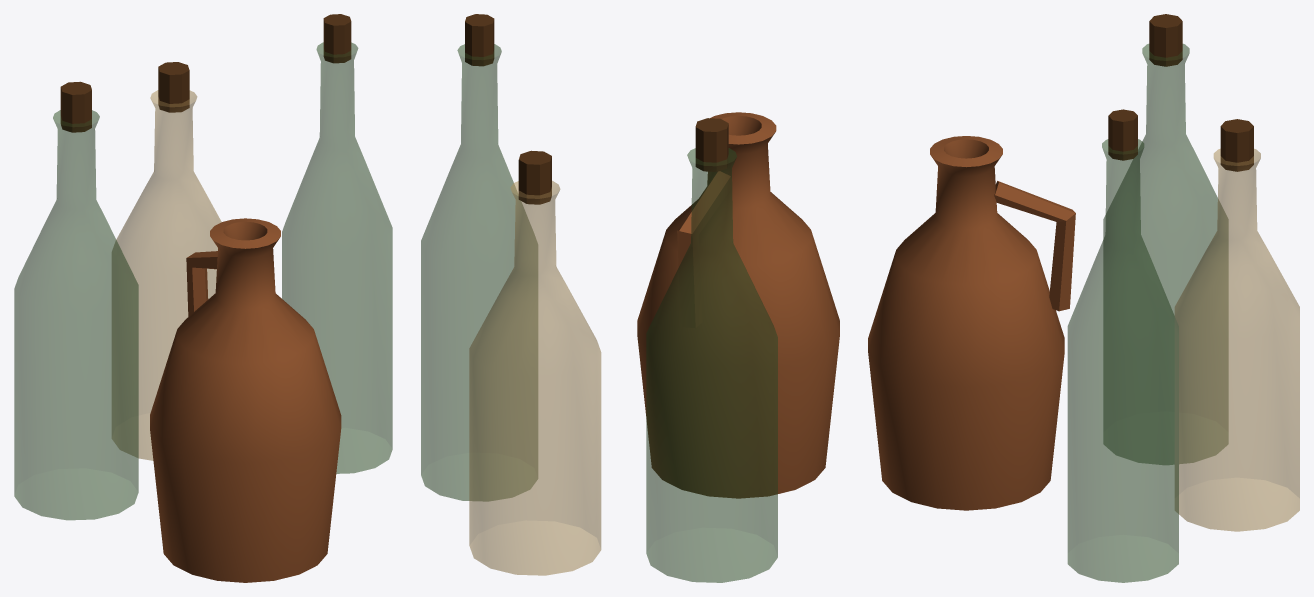
File: flaschen.glb
3 views of the same model, side by side, from view 1: azimuth 30°, elevation 25°; view 2: azimuth 150°, elevation 25°; view 3: azimuth 270°, elevation 25° (orthographic). The views are drawn at different scales.
Parts seen in each view (by area): view 1: flaschen; view 2: flaschen; view 3: flaschen.
Part boxes in pixels (x1,y1,x2,y2): flaschen: [14, 14, 392, 582]; flaschen: [421, 14, 839, 582]; flaschen: [868, 14, 1299, 582].
Size of the model in its own units: 0.285 by 0.343 by 0.3028.
